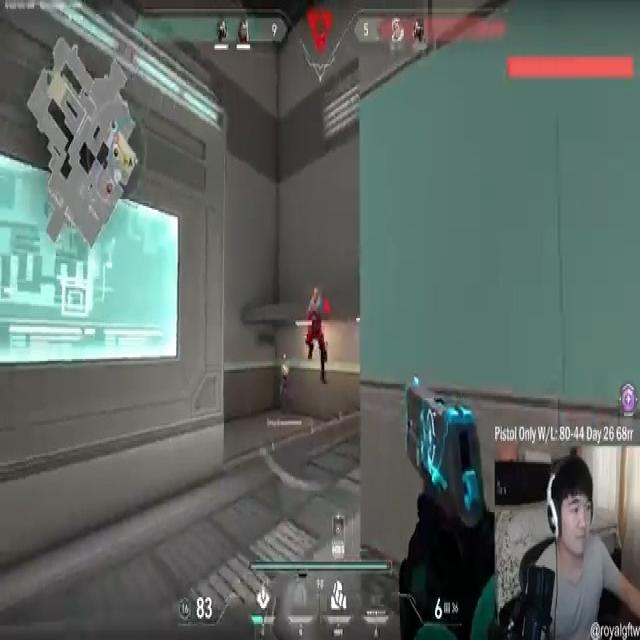ally: (280, 359, 292, 426)
enemy: (305, 286, 331, 389)
